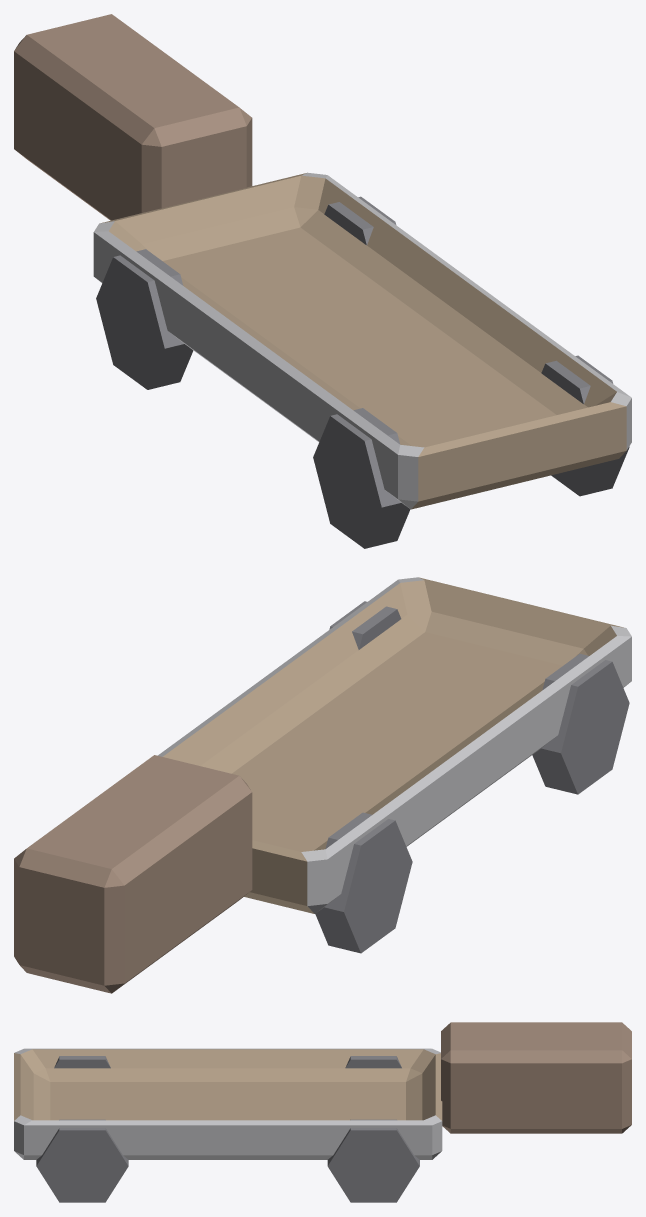
Rendered from veh_dray.glb.
3 renders of one model, top to bottom at view 1: azimuth 30°, elevation 25°; view 2: azimuth 150°, elevation 25°; view 3: azimuth 270°, elevation 25°, orthographic. The views are drawn at different scales.
Visible parts, largest first — view 1: dray; view 2: dray; view 3: dray.
Boxes of the visible parts, x1=… form: dray: x1=14, y1=14, x2=631, y2=548; dray: x1=14, y1=577, x2=631, y2=993; dray: x1=14, y1=1022, x2=631, y2=1202.
Bounding box in the file's own units: 0.0583 × 0.0421 × 0.1876.
